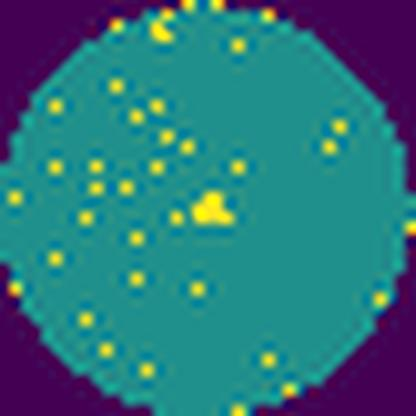Center: (192, 190, 237, 230)
